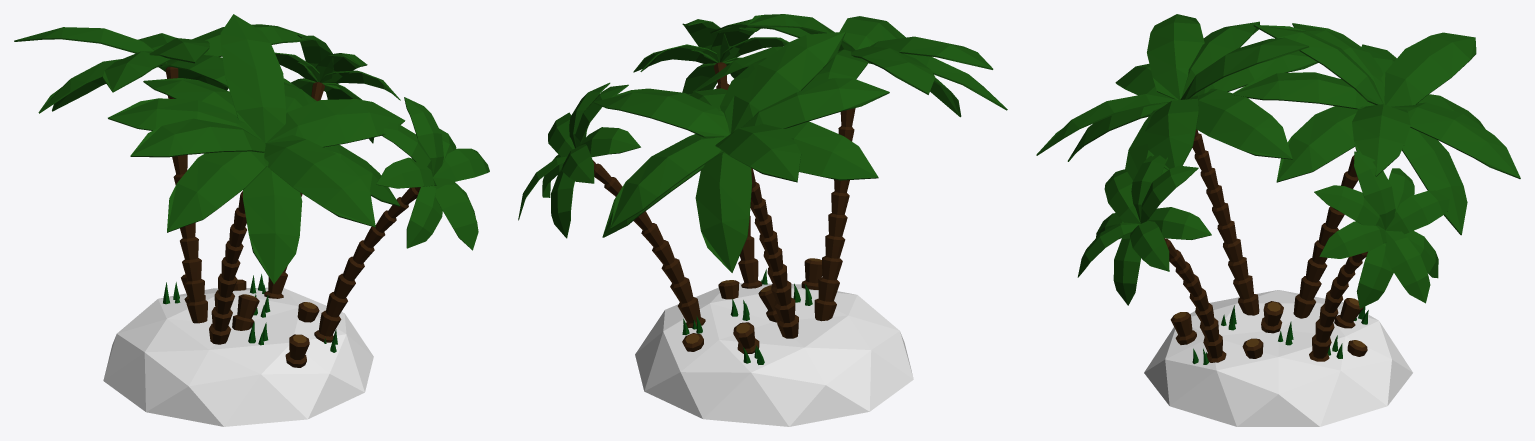
File: inicio.fbx
3 views of the same model, side by side, from view 1: azimuth 30°, elevation 25°; view 2: azimuth 150°, elevation 25°; view 3: azimuth 270°, elevation 25° (orthographic). The views are drawn at different scales.
Visible parts, largest first — view 1: GeoSphere001, Plane052, Plane054, Plane048, Plane051, Plane053, Plane055, Plane046, Plane073, Plane049, Plane062, Plane069 (+17 smaller); view 2: GeoSphere001, Plane065, Plane057, Plane063, Plane056, Plane064, Plane059, Plane062, Plane046, Plane055, Plane054, Plane075 (+21 smaller); view 3: GeoSphere001, Plane062, Plane047, Plane063, Plane058, Plane055, Plane061, Plane060, Plane064, Plane053, Plane065, Plane052 (+24 smaller).
Part boxes in pixels (bbox=[...]): GeoSphere001: bbox=[103, 287, 373, 426]; Plane052: bbox=[220, 14, 285, 142]; Plane054: bbox=[264, 135, 375, 227]; Plane048: bbox=[243, 158, 302, 284]; Plane051: bbox=[167, 151, 267, 232]; Plane053: bbox=[266, 99, 405, 147]; Plane055: bbox=[130, 118, 265, 157]; Plane046: bbox=[108, 98, 263, 141]; Plane073: bbox=[433, 177, 478, 250]; Plane049: bbox=[143, 78, 237, 116]; Plane062: bbox=[14, 27, 154, 53]; Plane069: bbox=[406, 185, 442, 248]; GeoSphere001: bbox=[635, 283, 913, 426]; Plane065: bbox=[725, 31, 845, 133]; Plane057: bbox=[695, 152, 752, 272]; Plane063: bbox=[610, 135, 726, 229]; Plane056: bbox=[741, 78, 889, 128]; Plane064: bbox=[593, 88, 729, 137]; Plane059: bbox=[783, 121, 878, 180]; Plane062: bbox=[715, 124, 801, 182]; Plane046: bbox=[851, 46, 935, 94]; Plane055: bbox=[870, 36, 993, 69]; Plane054: bbox=[839, 16, 905, 49]; Plane075: bbox=[579, 127, 640, 157]; GeoSphere001: bbox=[1144, 290, 1412, 426]; Plane062: bbox=[1381, 32, 1476, 106]; Plane047: bbox=[1196, 88, 1292, 159]; Plane063: bbox=[1391, 101, 1520, 178]; Plane058: bbox=[1276, 106, 1364, 182]; Plane055: bbox=[1147, 14, 1204, 99]; Plane061: bbox=[1231, 72, 1375, 109]; Plane060: bbox=[1402, 127, 1467, 235]; Plane064: bbox=[1352, 104, 1410, 176]; Plane053: bbox=[1145, 95, 1198, 169]; Plane065: bbox=[1253, 25, 1383, 104]; Plane052: bbox=[1180, 37, 1308, 99].
Size of the model in its own units: 470 by 433 by 573.
